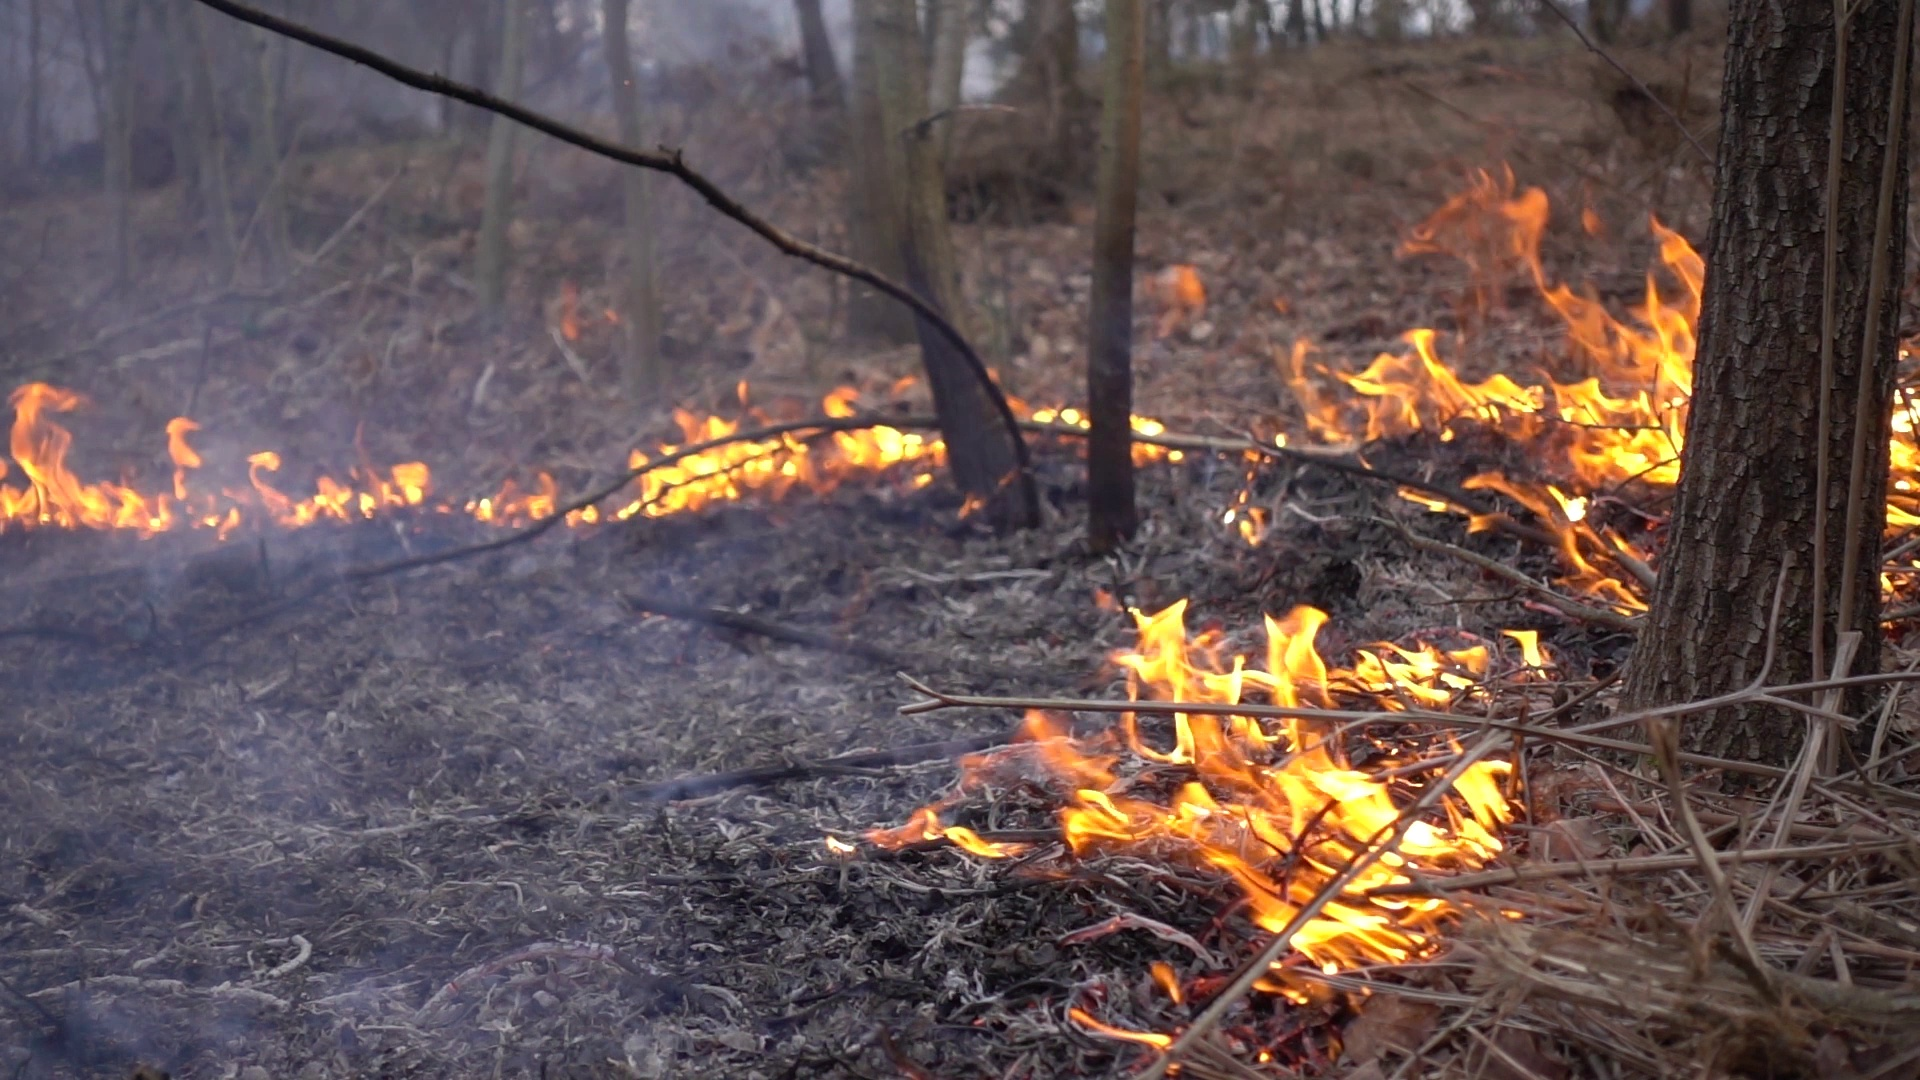fire: (1050, 609, 1511, 963), (1295, 189, 1696, 593), (7, 384, 431, 527), (628, 381, 920, 516), (1884, 384, 1920, 535)
